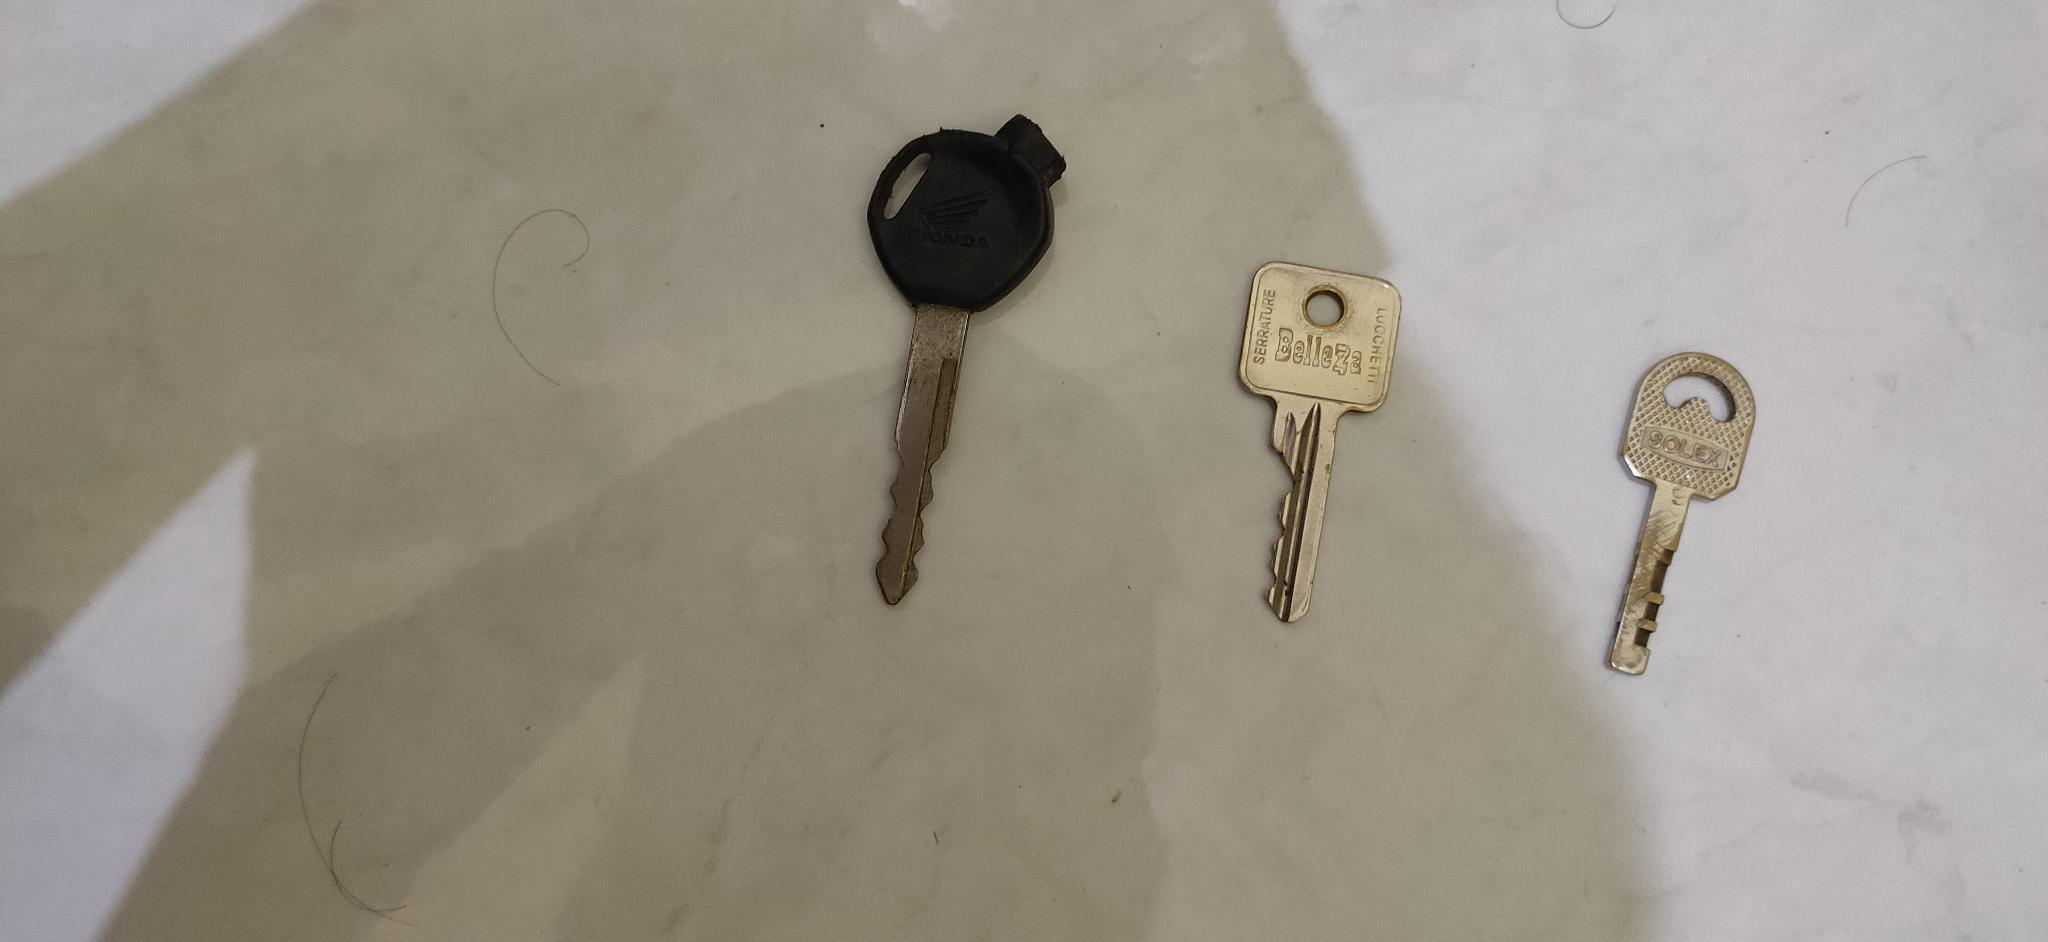keys: (856, 108, 1071, 611), (1226, 255, 1409, 630), (1588, 348, 1768, 679)
